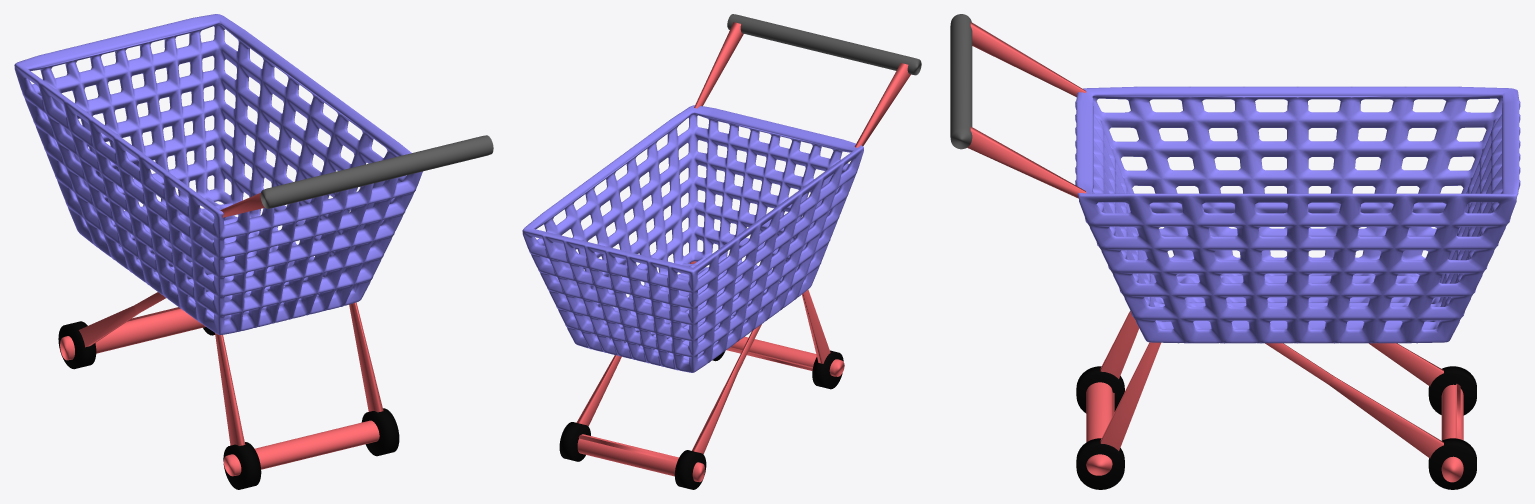
File: Market arabas─▒.fbx
3 views of the same model, side by side, from view 1: azimuth 30°, elevation 25°; view 2: azimuth 150°, elevation 25°; view 3: azimuth 270°, elevation 25° (orthographic). The views are drawn at different scales.
Parts seen in each view (by area): view 1: Cube, Cylinder, Cylinder.001, Cylinder.002, Cube.005, Cube.002, Cube.004, Cylinder.005, Cylinder.006, Cylinder.003, Cube.001; view 2: Cube, Cylinder, Cylinder.002, Cube.005, Cylinder.001, Cube.002, Cube.001, Cube.003, Cylinder.003, Cylinder.004, Cube.006, Cylinder.005; view 3: Cube, Cylinder, Cube.006, Cube.001, Cube.003, Cube.004, Cylinder.001, Cylinder.004, Cube.005, Cylinder.006, Cylinder.002, Cylinder.003 (+2 smaller).
Boxes of the visible parts, x1,y1,x2,y2 form: Cube: [14, 14, 422, 335]; Cylinder: [260, 135, 493, 208]; Cylinder.001: [223, 420, 379, 476]; Cylinder.002: [60, 308, 205, 360]; Cube.005: [79, 292, 180, 347]; Cube.002: [215, 333, 245, 445]; Cube.004: [349, 302, 383, 412]; Cylinder.005: [223, 442, 261, 489]; Cylinder.006: [361, 408, 399, 456]; Cylinder.003: [58, 321, 96, 369]; Cube.001: [220, 193, 264, 217]; Cube: [522, 105, 863, 372]; Cylinder: [727, 14, 921, 75]; Cylinder.002: [577, 434, 705, 482]; Cube.005: [578, 324, 761, 462]; Cylinder.001: [726, 336, 844, 376]; Cube.002: [727, 289, 830, 370]; Cube.001: [854, 63, 910, 147]; Cube.003: [694, 22, 743, 108]; Cylinder.003: [674, 450, 706, 489]; Cylinder.004: [559, 422, 590, 461]; Cube.006: [576, 355, 621, 426]; Cylinder.005: [812, 350, 843, 389]; Cube: [1075, 86, 1520, 343]; Cylinder: [950, 14, 972, 149]; Cube.006: [1265, 343, 1443, 458]; Cube.001: [970, 22, 1086, 96]; Cube.003: [967, 126, 1086, 198]; Cube.004: [1100, 342, 1160, 450]; Cylinder.001: [1086, 382, 1112, 475]; Cylinder.004: [1428, 438, 1476, 489]; Cube.005: [1369, 343, 1460, 439]; Cylinder.006: [1076, 438, 1124, 489]; Cylinder.002: [1441, 384, 1463, 482]; Cylinder.003: [1428, 366, 1476, 415].
Size of the model in its own units: 206 by 313 by 427.
